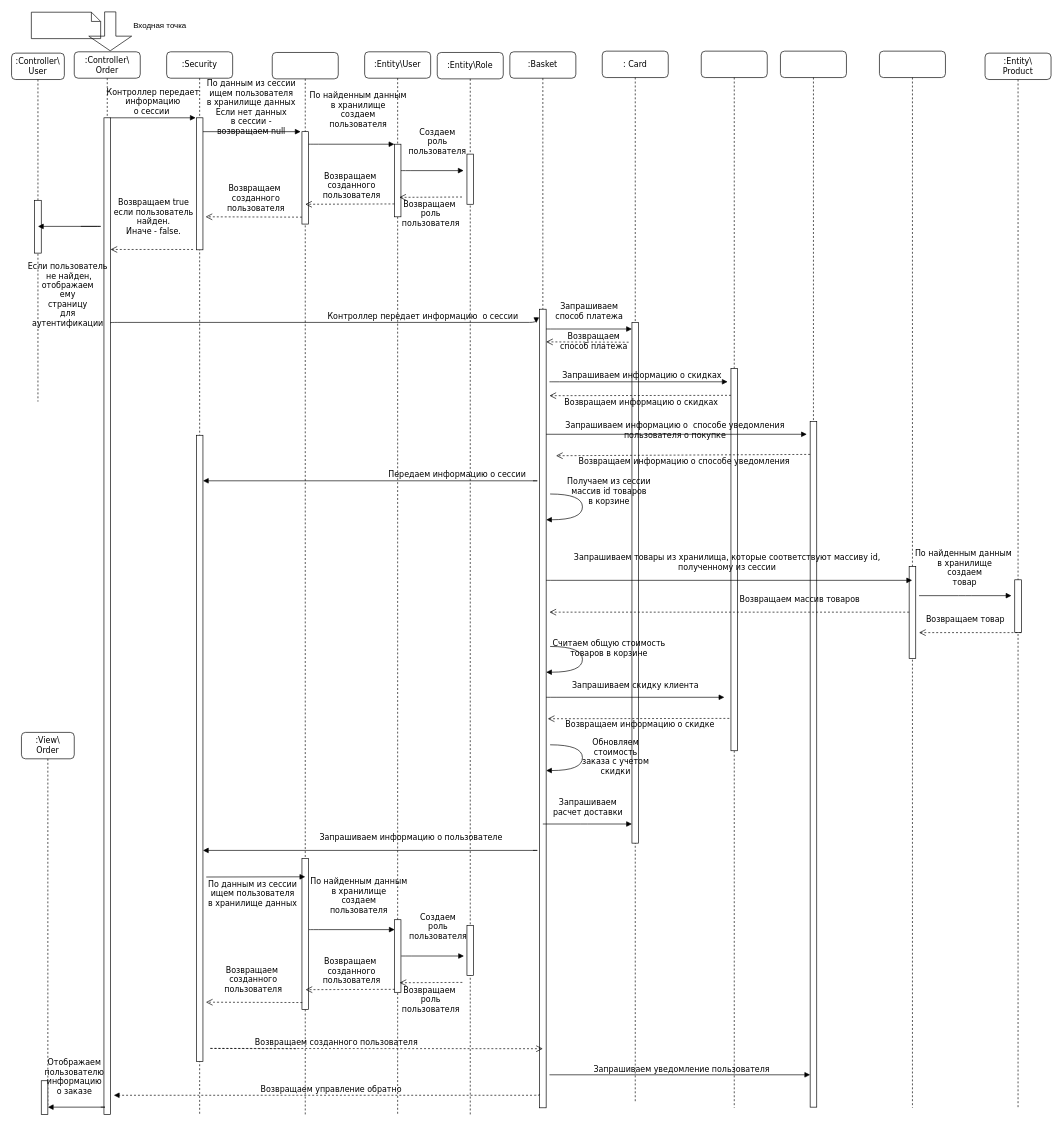
This 1063x1126 diagram has some shape labels left out. The box of each missing label's shape, as (x1, y1, x2, y2) in pixels:
: Email: (780, 50, 846, 1107)
: NullObject: (701, 50, 767, 1108)
:Repository\ Product: (879, 50, 945, 1108)
:Repository\ User: (272, 52, 338, 1114)
Оформление заказа: (31, 12, 101, 39)
